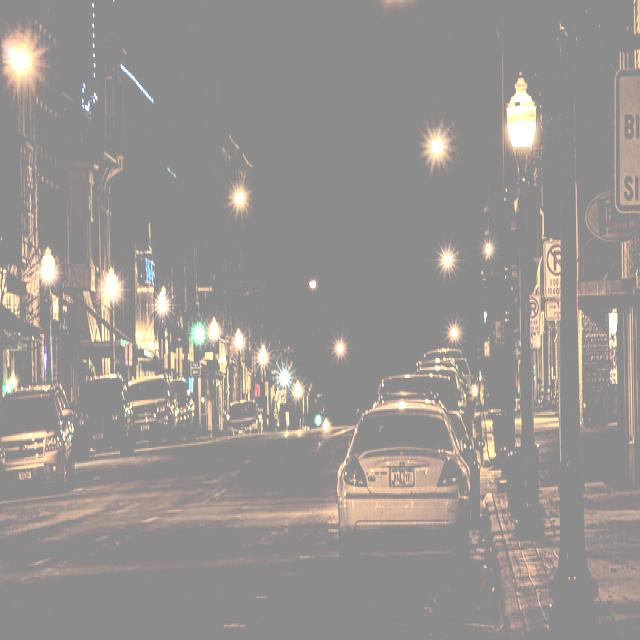Car: (335, 404, 472, 547), (0, 382, 72, 493), (122, 375, 176, 455)
